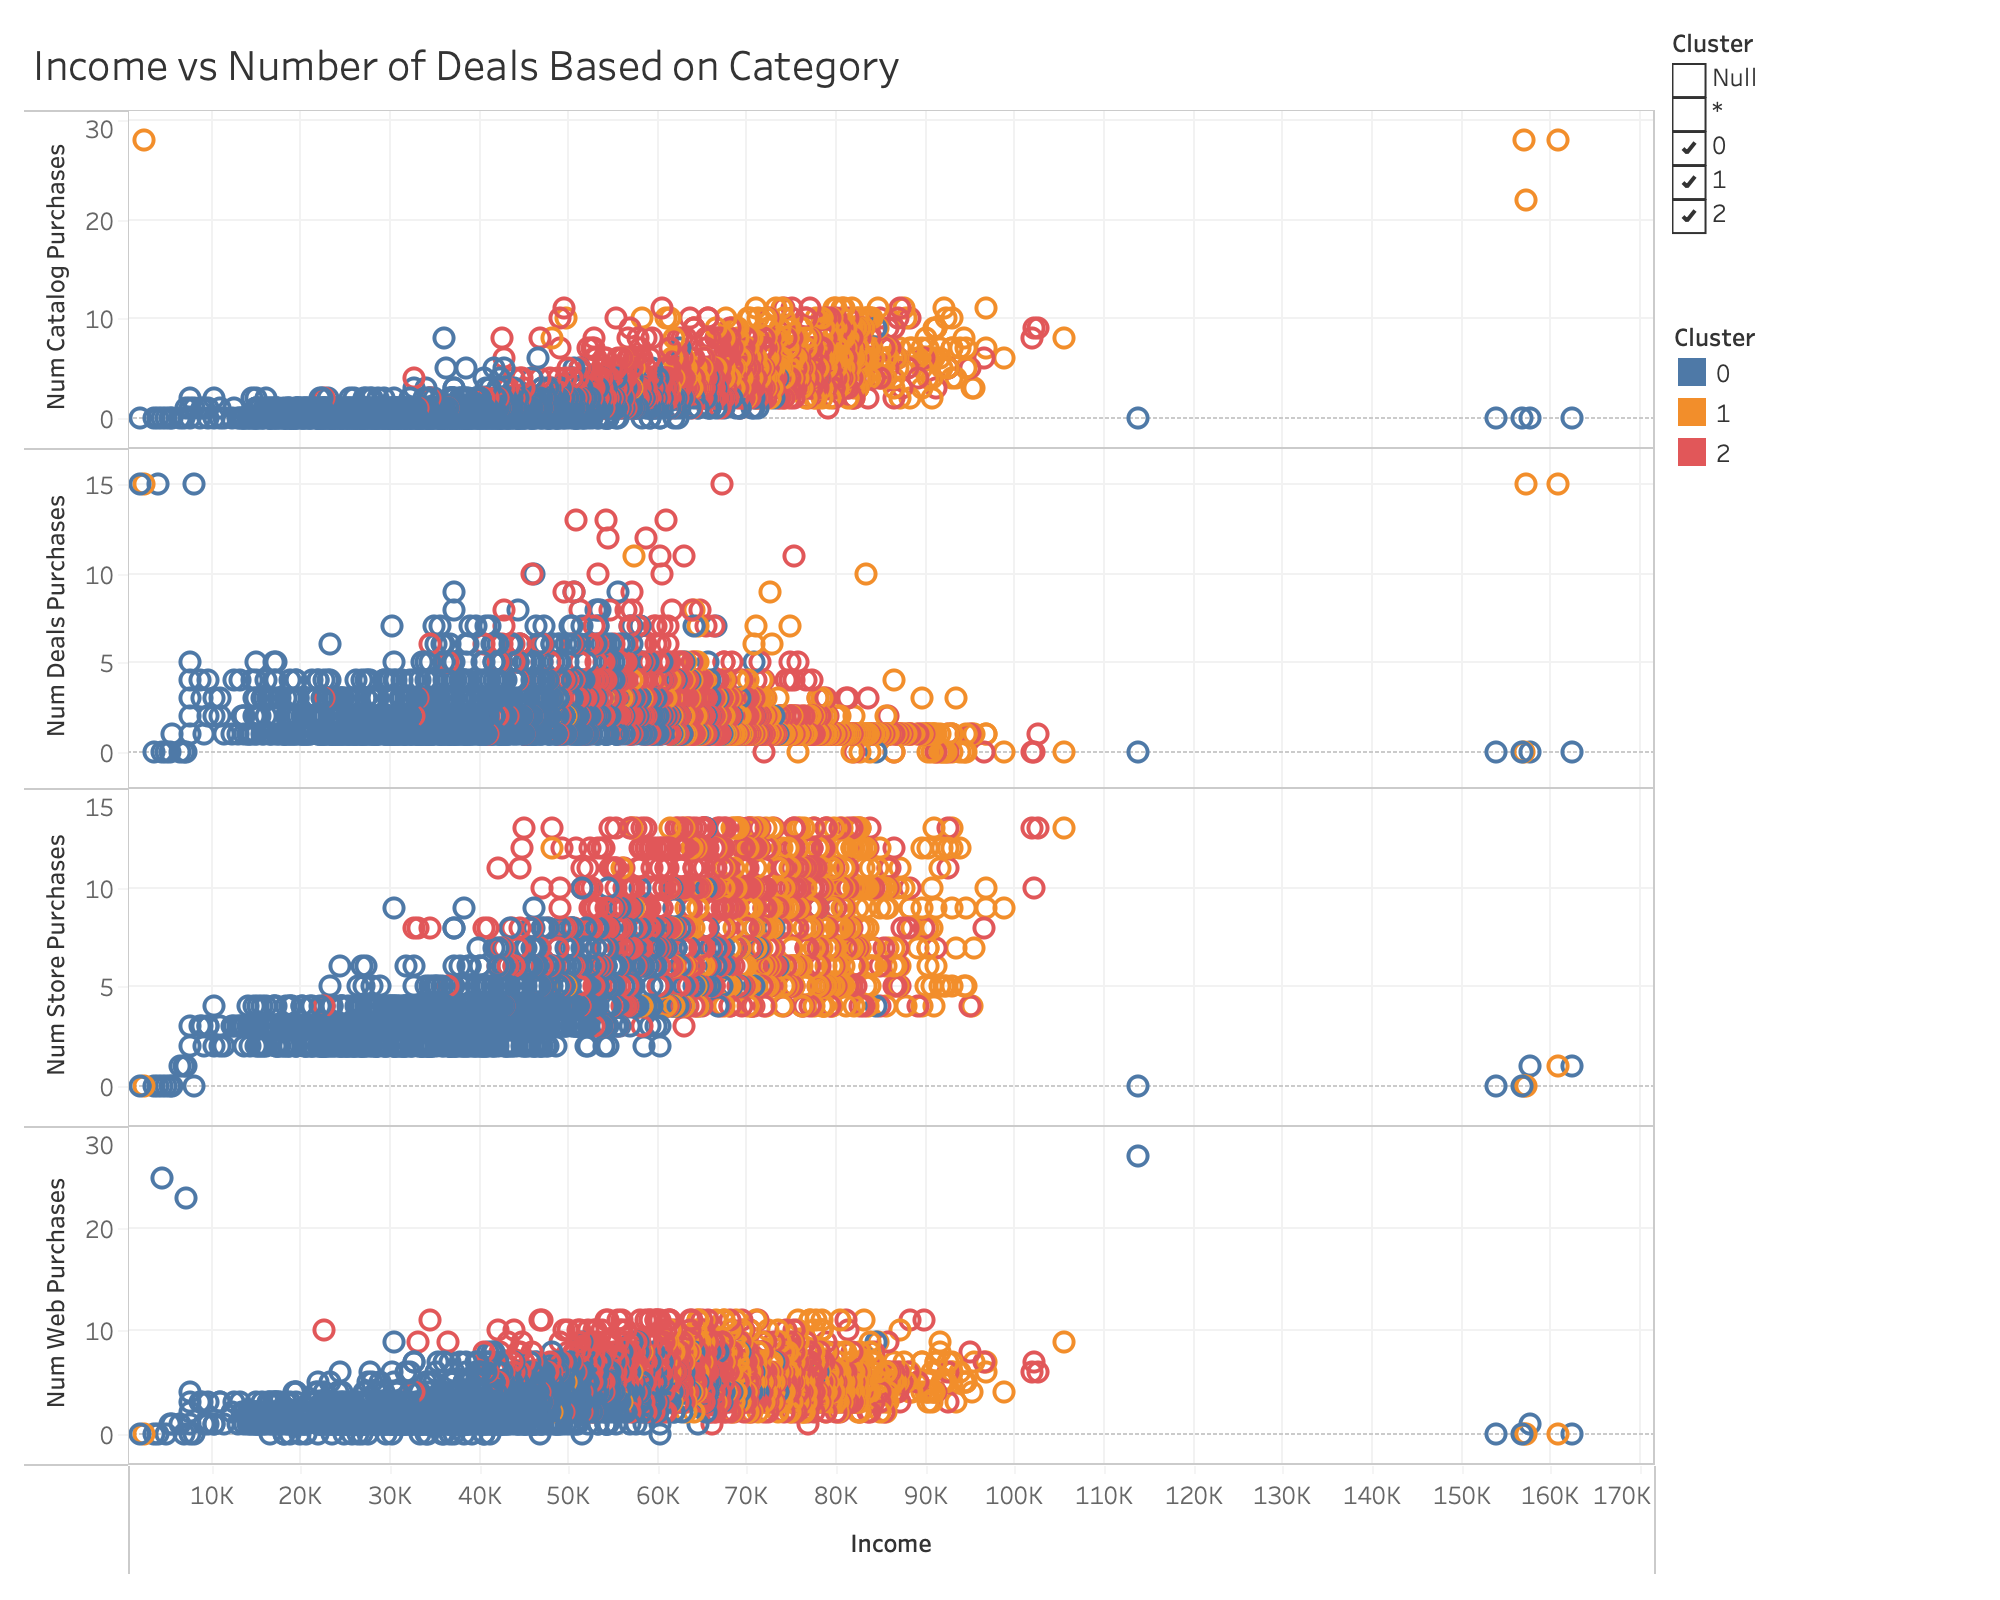

This screenshot's page, from the dashboard's own definition file:
{"tool":"tableau","page":{"name":"Income -Catergoty Deals Clustering ","canvas":[1000,800],"ordinal":2},"visuals":[{"type":"worksheet","title":"Income-Purchase Demographic","mark":"Automatic","rows":["NumCatalogPurchases","NumDealsPurchases","NumStorePurchases","NumWebPurchases"],"cols":["Income"],"box":[8,8,824,784]},{"type":"filter","title":"Income-Purchase Demographic","param":"[federated.0h42g6r1er60x316i2s0j0oj86pa].[attr:Cluster:nk]","box":[832,8,160,146]},{"type":"legend","title":"Income-Purchase Demographic","param":"[federated.0h42g6r1er60x316i2s0j0oj86pa].[attr:Cluster:nk]","box":[832,154,160,86]}]}

Visuals, with their boxes in screenshot pixels (x1, y1, x2, y2), scaled from the page's 1000x800 canvas onto the 2000x1600 screenshot:
"Income-Purchase Demographic" worksheet: <bbox>16, 16, 1664, 1584</bbox>
"Income-Purchase Demographic" filter: <bbox>1664, 16, 1984, 308</bbox>
"Income-Purchase Demographic" legend: <bbox>1664, 308, 1984, 480</bbox>
